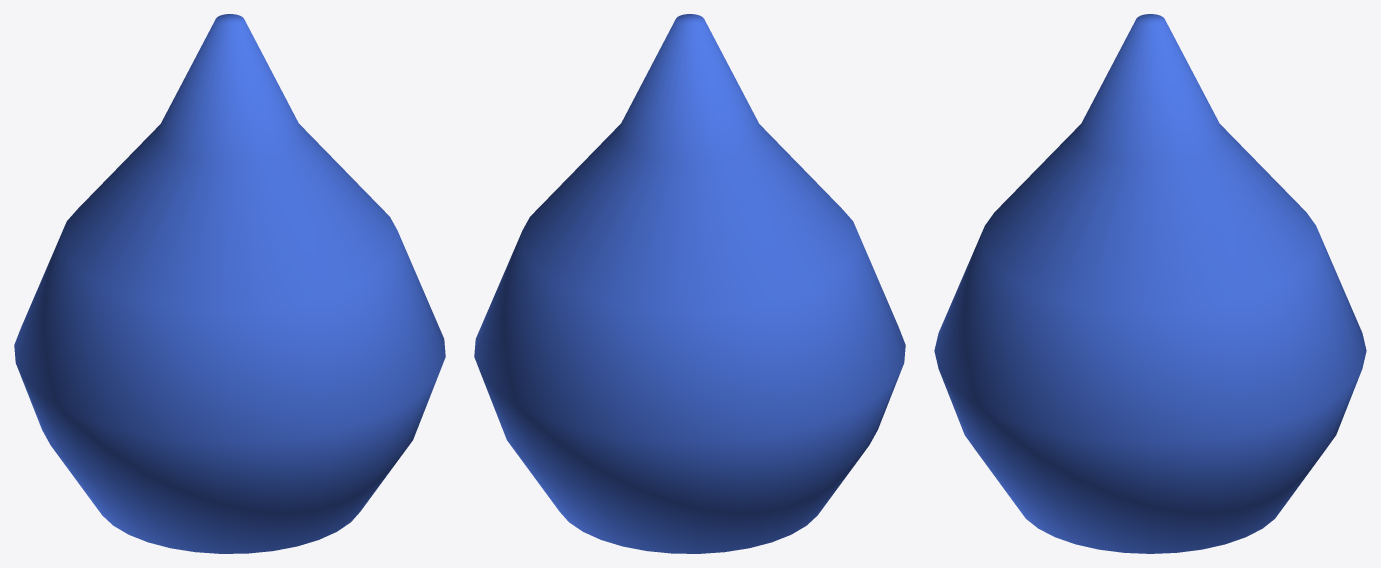
File: Water.fbx
3 views of the same model, side by side, from view 1: azimuth 30°, elevation 25°; view 2: azimuth 150°, elevation 25°; view 3: azimuth 270°, elevation 25° (orthographic).
Visible parts, largest first — view 1: Circle; view 2: Circle; view 3: Circle.
Boxes of the visible parts, bbox=[...] form: Circle: bbox=[14, 14, 445, 553]; Circle: bbox=[474, 14, 905, 553]; Circle: bbox=[934, 14, 1366, 553].
Size of the model in its own units: 20.46 by 26.47 by 20.46.
